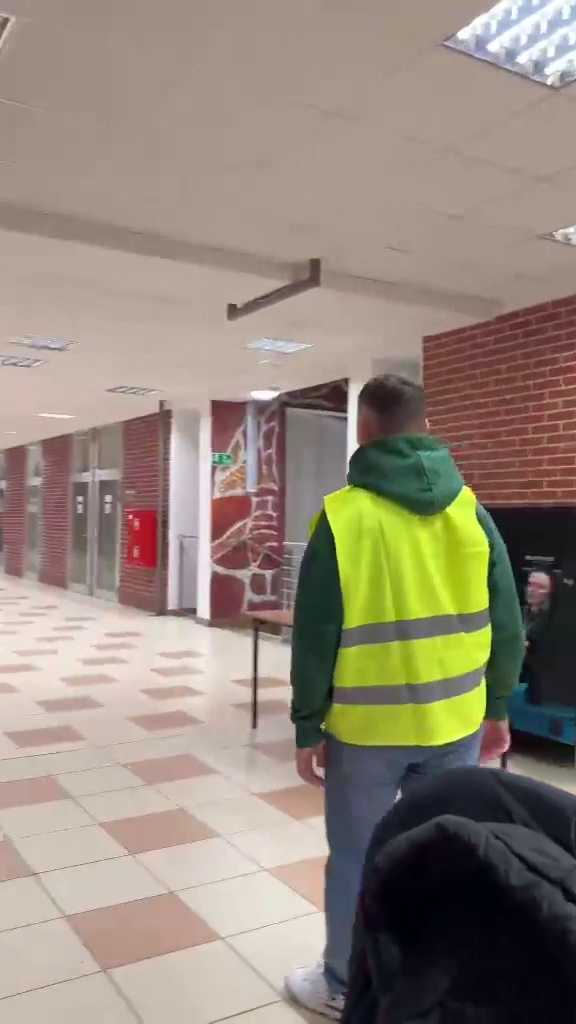vest: (297, 369, 539, 1021)
